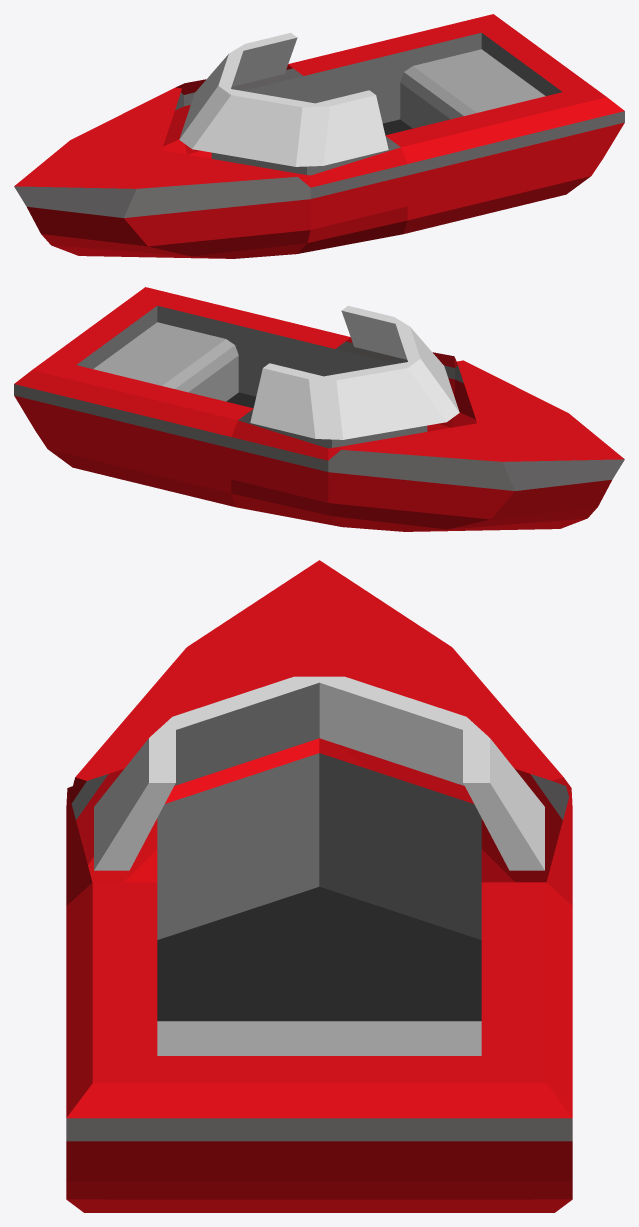
File: lancha.fbx
3 renders of one model, top to bottom at view 1: azimuth 30°, elevation 25°; view 2: azimuth 150°, elevation 25°; view 3: azimuth 270°, elevation 25°, orthographic. The views are drawn at different scales.
Visible parts, largest first — view 1: Cube.012; view 2: Cube.012; view 3: Cube.012.
Boxes of the visible parts, x1,y1,x2,y2 form: Cube.012: (14,14,624,258); Cube.012: (14,287,624,531); Cube.012: (66,560,572,1212).
Size of the model in its own units: 499 by 119 by 200.
